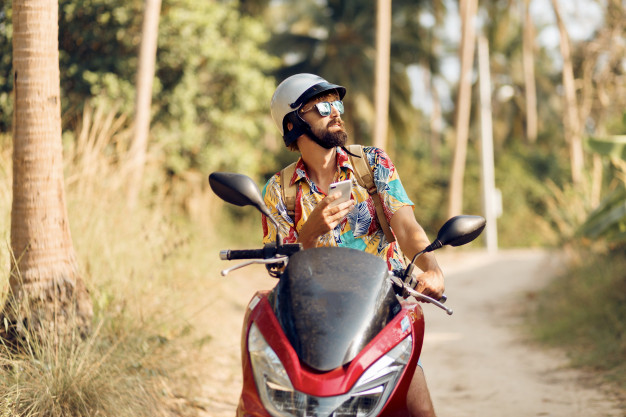dieu khien xe may: (245, 72, 421, 417)
su dung dien thoai: (275, 73, 360, 231)
